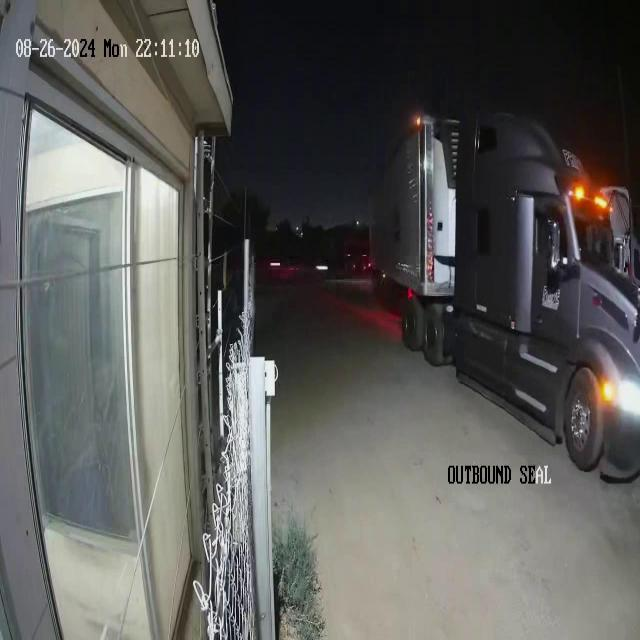CONTAINER: (369, 106, 459, 300)
